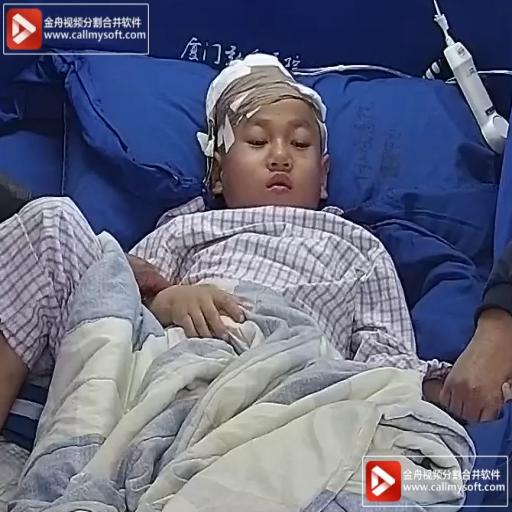Netural: (189, 38, 342, 216)
